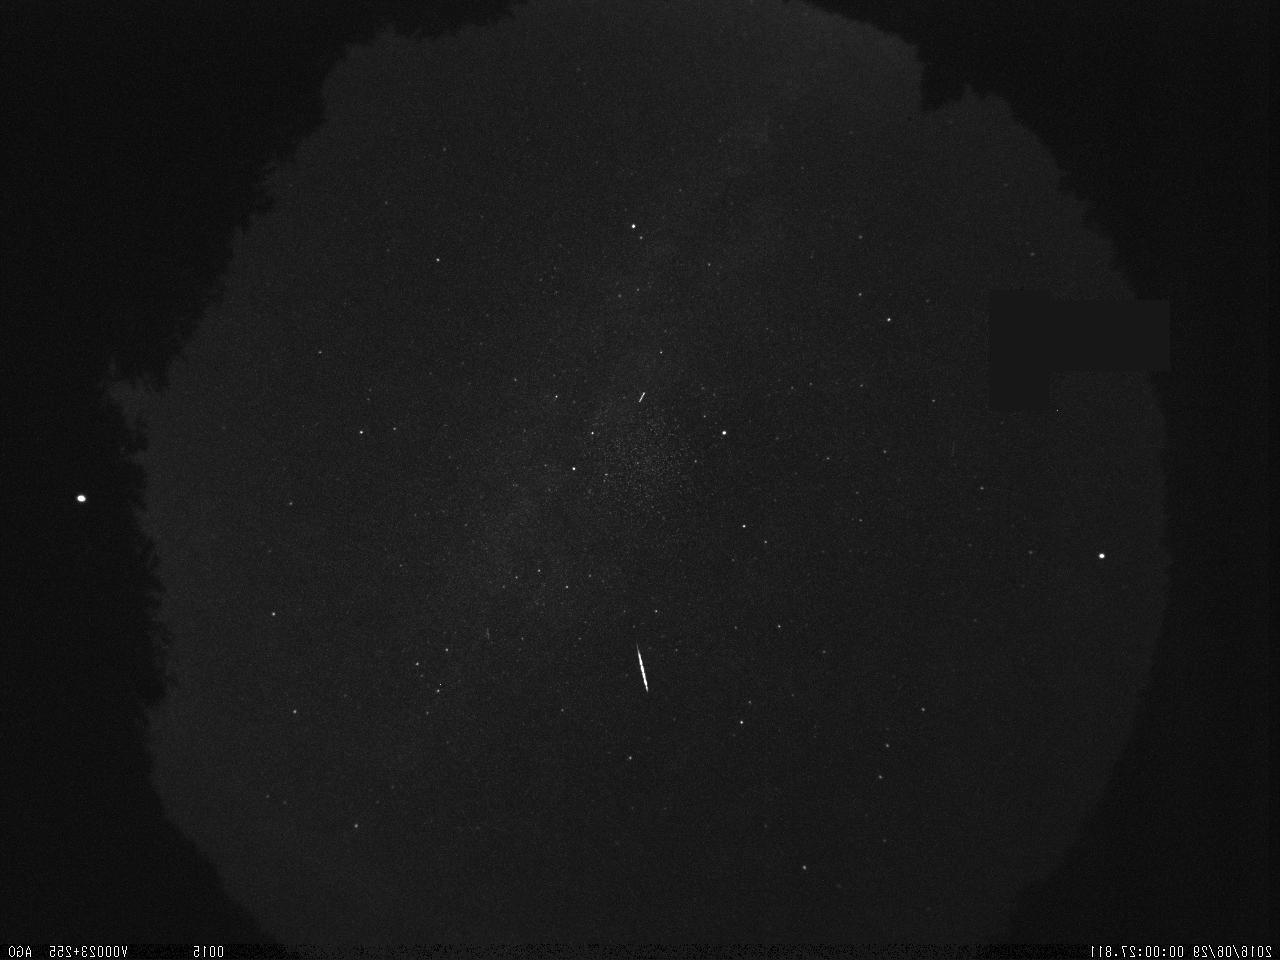meteor: (614, 633, 670, 710)
